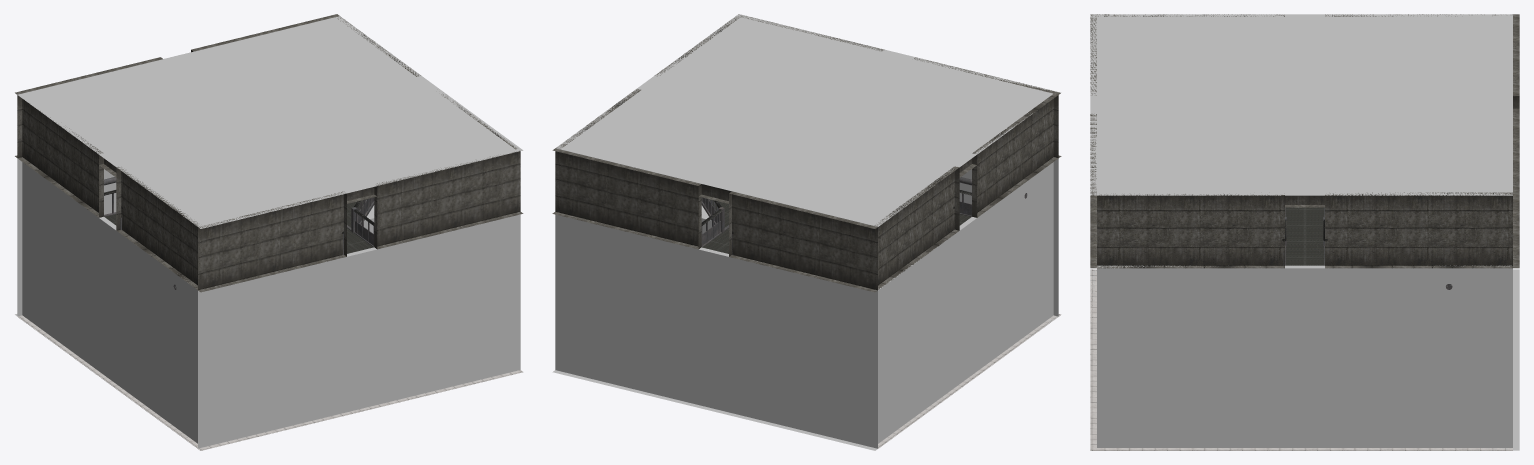
Rendered from HC_room4.gltf.
The picture shows the model from 3 angles, left to right: view 1: azimuth 30°, elevation 25°; view 2: azimuth 150°, elevation 25°; view 3: azimuth 270°, elevation 25°; orthographic projection. The views are drawn at different scales.
Visible parts, largest first — view 1: HC_room4; view 2: HC_room4; view 3: HC_room4.
Part boxes in pixels (x1,y1,x2,y2): HC_room4: [15, 14, 523, 450]; HC_room4: [552, 14, 1061, 450]; HC_room4: [1090, 14, 1519, 450].
Bounding box in the file's own units: 20.48 × 13.46 × 20.48.
